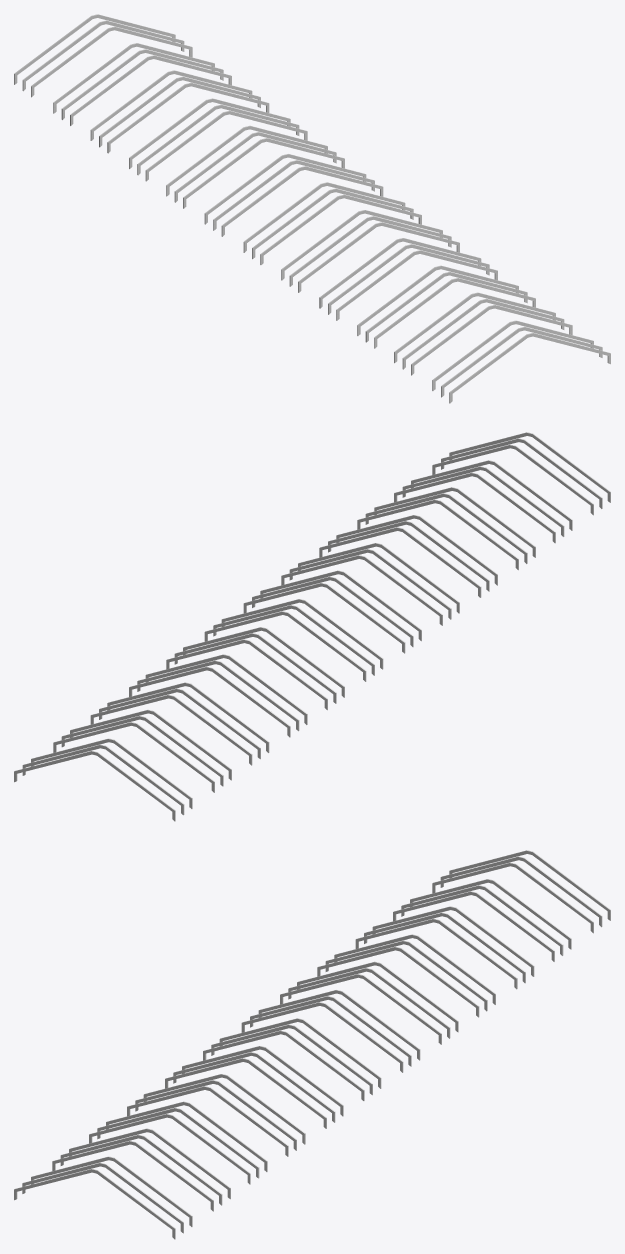
The model's file is ceilingframe_H_001.fbx.
3 renders of one model, top to bottom at view 1: azimuth 30°, elevation 25°; view 2: azimuth 150°, elevation 25°; view 3: azimuth 330°, elevation 25°, orthographic.
Visible parts, largest first — view 1: ceilingframe_H_001; view 2: ceilingframe_H_001; view 3: ceilingframe_H_001.
Part boxes in pixels (bbox=[...]): ceilingframe_H_001: bbox=[14, 14, 610, 403]; ceilingframe_H_001: bbox=[14, 432, 610, 821]; ceilingframe_H_001: bbox=[14, 850, 610, 1239].
Size of the model in its own units: 1724 by 512 by 8080.
1 material, 1 textured.
